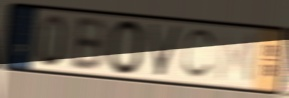0: (37, 12, 69, 70)
B: (69, 16, 108, 74)
C: (180, 27, 219, 81)
M: (215, 29, 258, 87)
O: (106, 18, 147, 78)
V: (147, 21, 186, 79)
